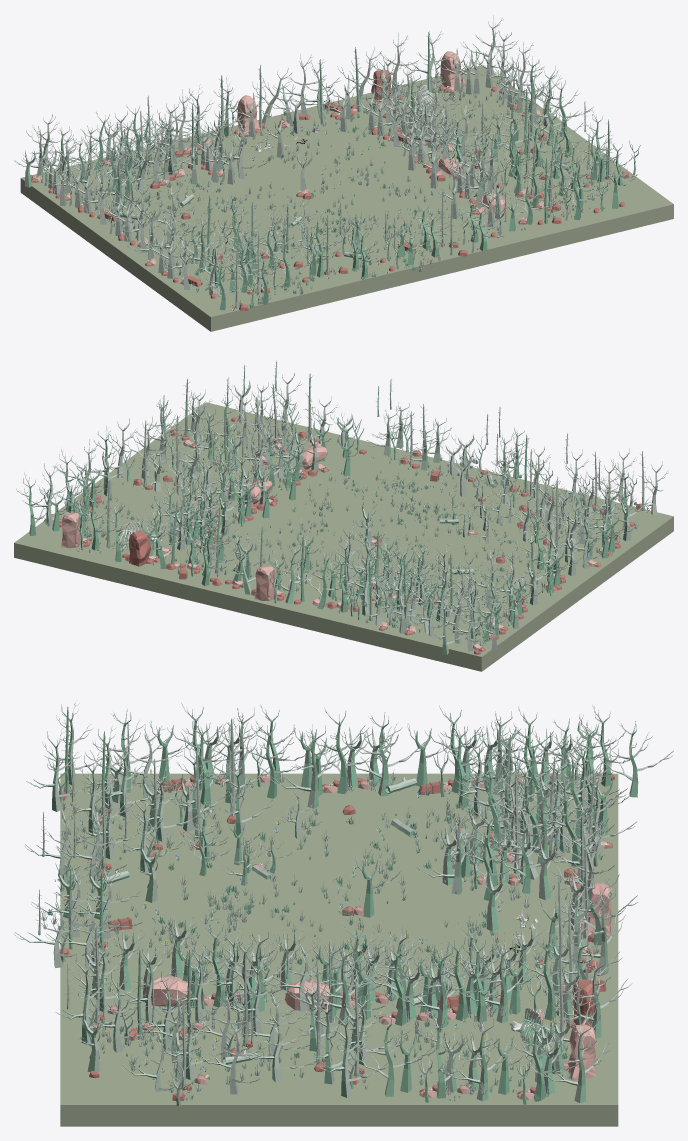
Rendered from Level_0_Otherworld.fbx.
3 views of the same model, one above another, from view 1: azimuth 30°, elevation 25°; view 2: azimuth 150°, elevation 25°; view 3: azimuth 270°, elevation 25° (orthographic). The views are drawn at different scales.
Parts seen in each view (by area): view 1: BG_Cube.015, BigRock1.003, BigRock1.002; view 2: BG_Cube.015, BigRock1.002, BigRock2.012, BigRock1.003; view 3: BG_Cube.015, BigRock1.003, Tree2_1.236, BigRock3.019, Tree2_1.231, Tree2_1.234, Tree2_1.227, Tree2_1.225, Tree2_1.259, Tree2_1.260, Tree2_1.220, Tree2_1.233 (+56 smaller).
Boxes of the visible parts, x1,y1,x2,y2 form: BG_Cube.015: [20, 65, 673, 331]; BigRock1.003: [440, 51, 465, 88]; BigRock1.002: [237, 95, 259, 131]; BG_Cube.015: [14, 402, 673, 671]; BigRock1.002: [254, 565, 276, 600]; BigRock2.012: [128, 531, 150, 566]; BigRock1.003: [61, 512, 81, 548]; BG_Cube.015: [60, 773, 618, 1126]; BigRock1.003: [568, 1024, 596, 1080]; Tree2_1.236: [536, 1018, 614, 1103]; BigRock3.019: [144, 976, 191, 1006]; Tree2_1.231: [315, 1003, 389, 1097]; Tree2_1.234: [438, 1016, 516, 1101]; Tree2_1.227: [458, 938, 536, 1023]; Tree2_1.225: [397, 943, 473, 1028]; Tree2_1.259: [270, 724, 339, 808]; Tree2_1.260: [345, 712, 425, 796]; Tree2_1.220: [551, 954, 632, 1038]; Tree2_1.233: [353, 1012, 433, 1096].
Size of the model in its own units: 11554 by 1815 by 9229.
